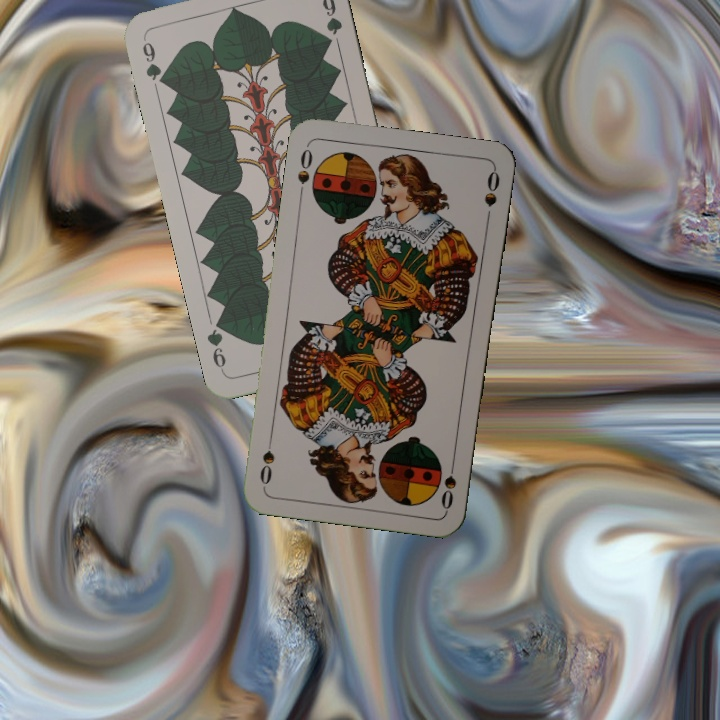G9: (138, 33, 169, 89)
SO: (437, 453, 459, 512), (293, 142, 315, 200)
